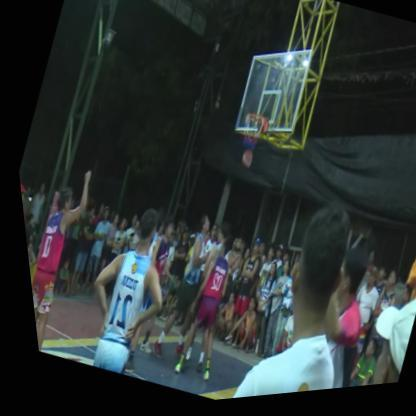basketball: (231, 149, 253, 180)
rim: (225, 106, 270, 163)
